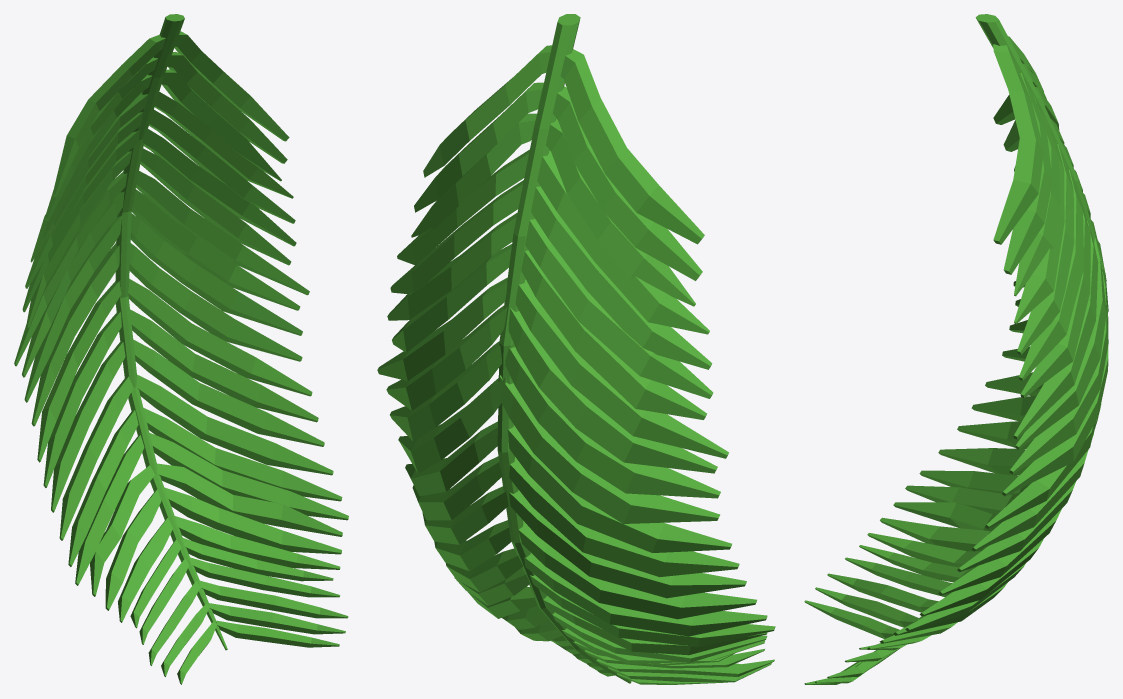
The model's file is ENVI_LV2-3_Daun2.fbx.
3 renders of one model, left to right at view 1: azimuth 30°, elevation 25°; view 2: azimuth 150°, elevation 25°; view 3: azimuth 270°, elevation 25°, orthographic. The views are drawn at different scales.
Visible parts, largest first — view 1: Daun2; view 2: Daun2; view 3: Daun2.
Boxes of the visible parts, x1=… form: Daun2: x1=14, y1=14, x2=348, y2=684; Daun2: x1=377, y1=14, x2=775, y2=684; Daun2: x1=804, y1=14, x2=1108, y2=684.
Bounding box in the file's own units: 94.59 × 183 × 79.31.
